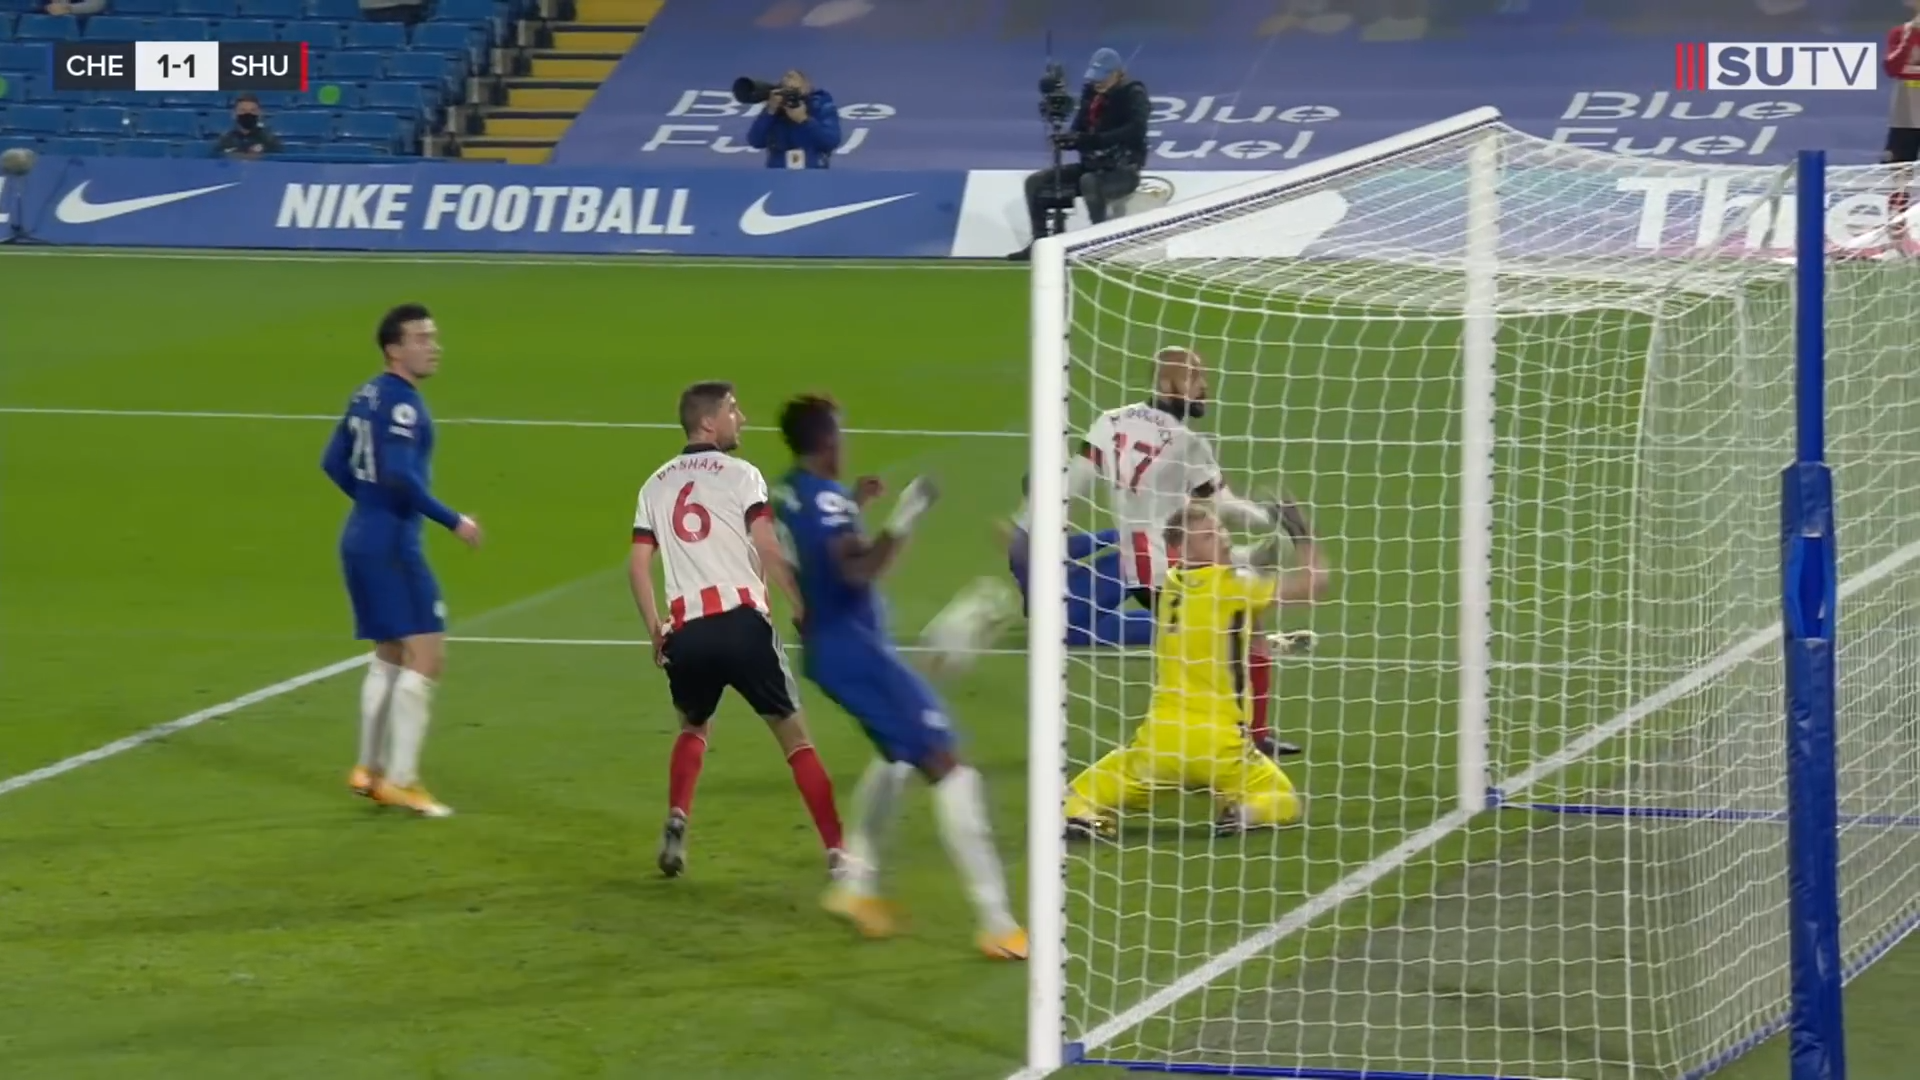Player: (284, 289, 501, 844), (613, 362, 784, 901)
